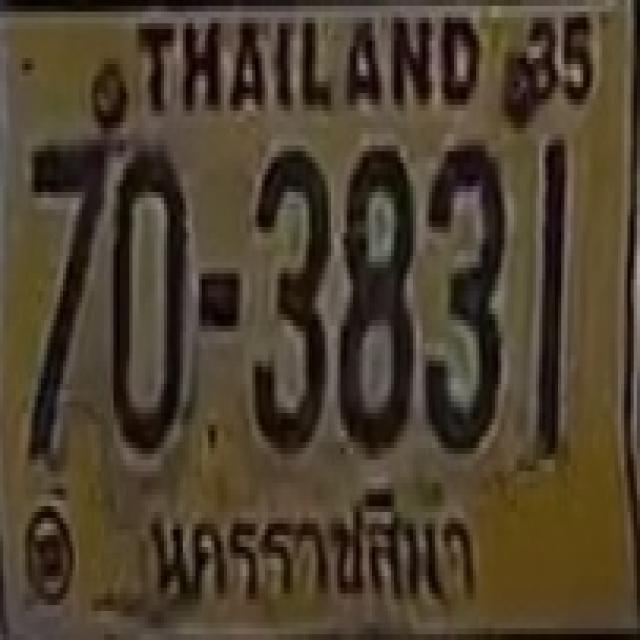0: (110, 143, 183, 445)
1: (536, 137, 564, 451)
3: (422, 137, 502, 445), (251, 143, 326, 445)
7: (26, 136, 106, 456)
8: (337, 140, 410, 448)
NMA: (133, 474, 492, 626)
